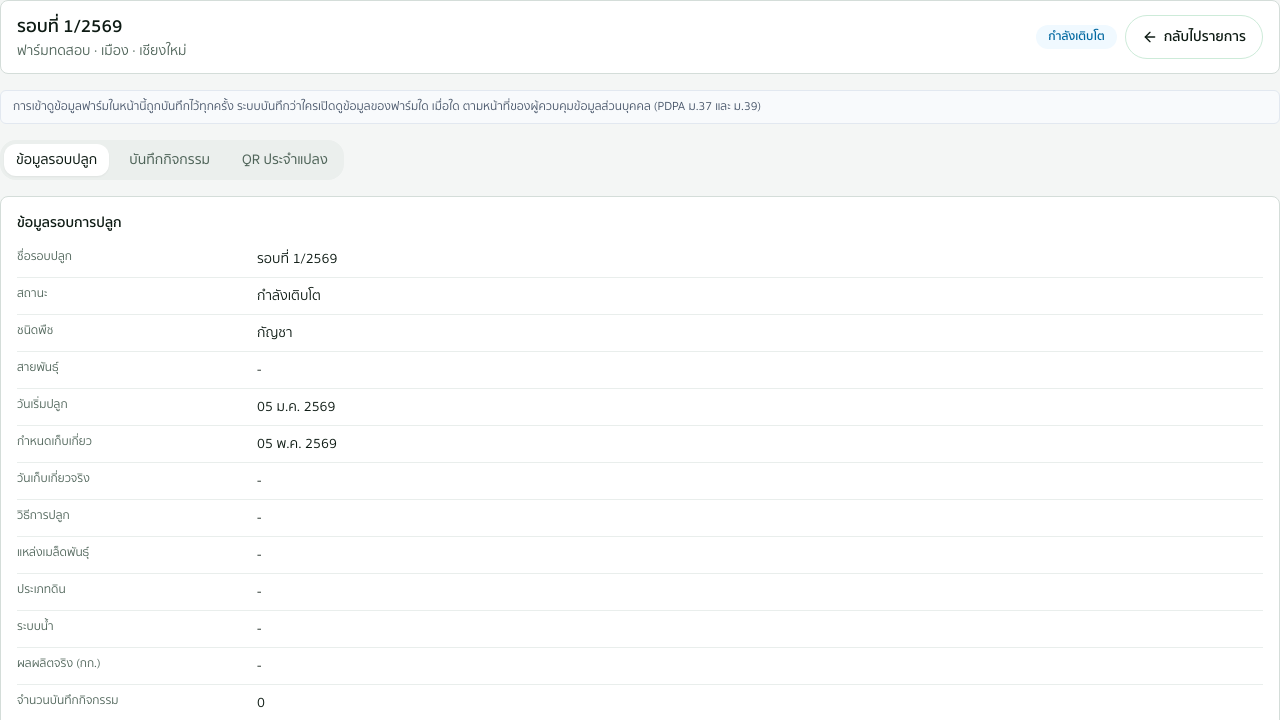
จอติดตามการปลูก: อ่านไม่สำเร็จ ไม่ใช่ไม่มีข้อมูล › จอรายละเอียด: QR ประจำแปลงอ่านล้ม ต้องไม่กลายเป็น "ยังไม่มีแปลงที่ออก QR"
This screenshot has width=1280, height=720.
Press the mouse on the tab "QR ประจำแปลง": (285, 160) [230, 144, 340, 176]
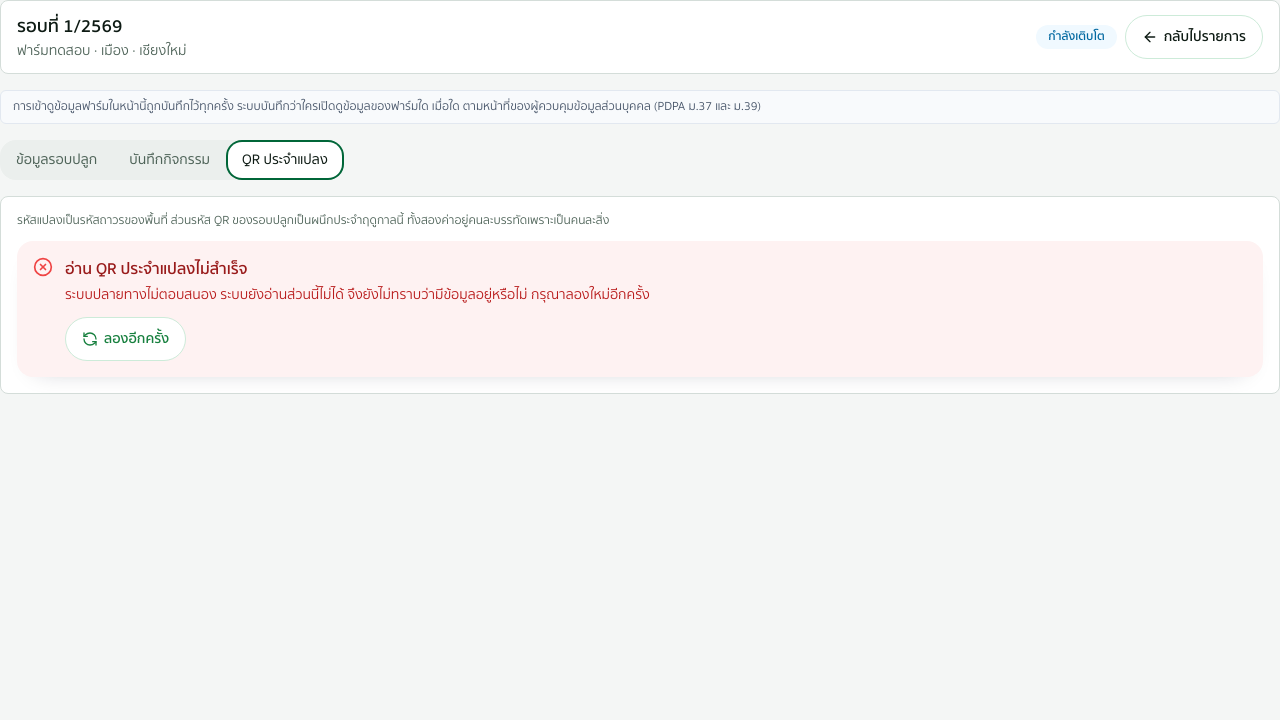
Expected: the message with test id "tracking-plot-qrs-read-error" is shown, [17, 241, 1263, 377]
